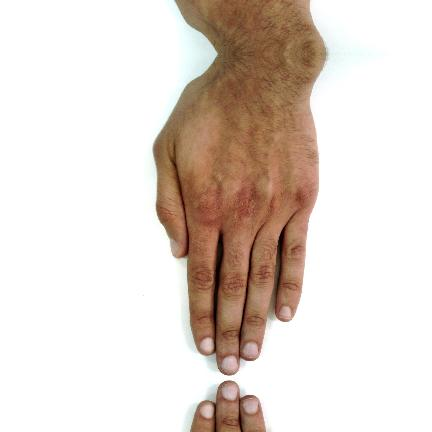Nail: (221, 356, 239, 375), (221, 381, 239, 400), (200, 338, 215, 355), (242, 343, 259, 358), (200, 401, 215, 418), (242, 398, 259, 413), (170, 238, 180, 257), (279, 306, 292, 319)
